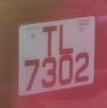0: (57, 51, 75, 90)
2: (73, 48, 91, 89)
3: (40, 53, 59, 94)
7: (22, 52, 42, 99)
L: (57, 22, 76, 57)
T: (40, 22, 60, 59)
